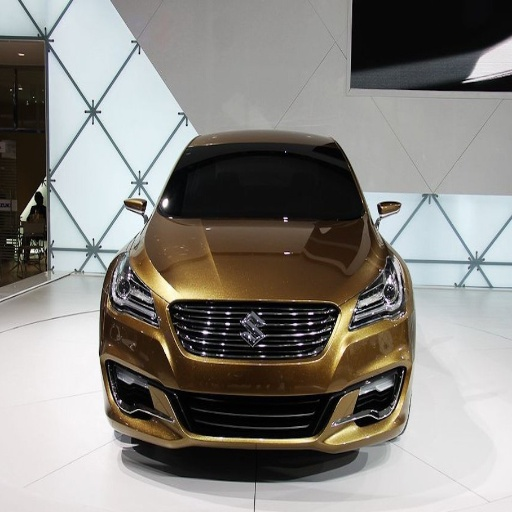front_bumper: (100, 293, 409, 452), (182, 473, 254, 509)
front_right_light: (106, 252, 158, 324)
hood: (137, 215, 385, 305)
